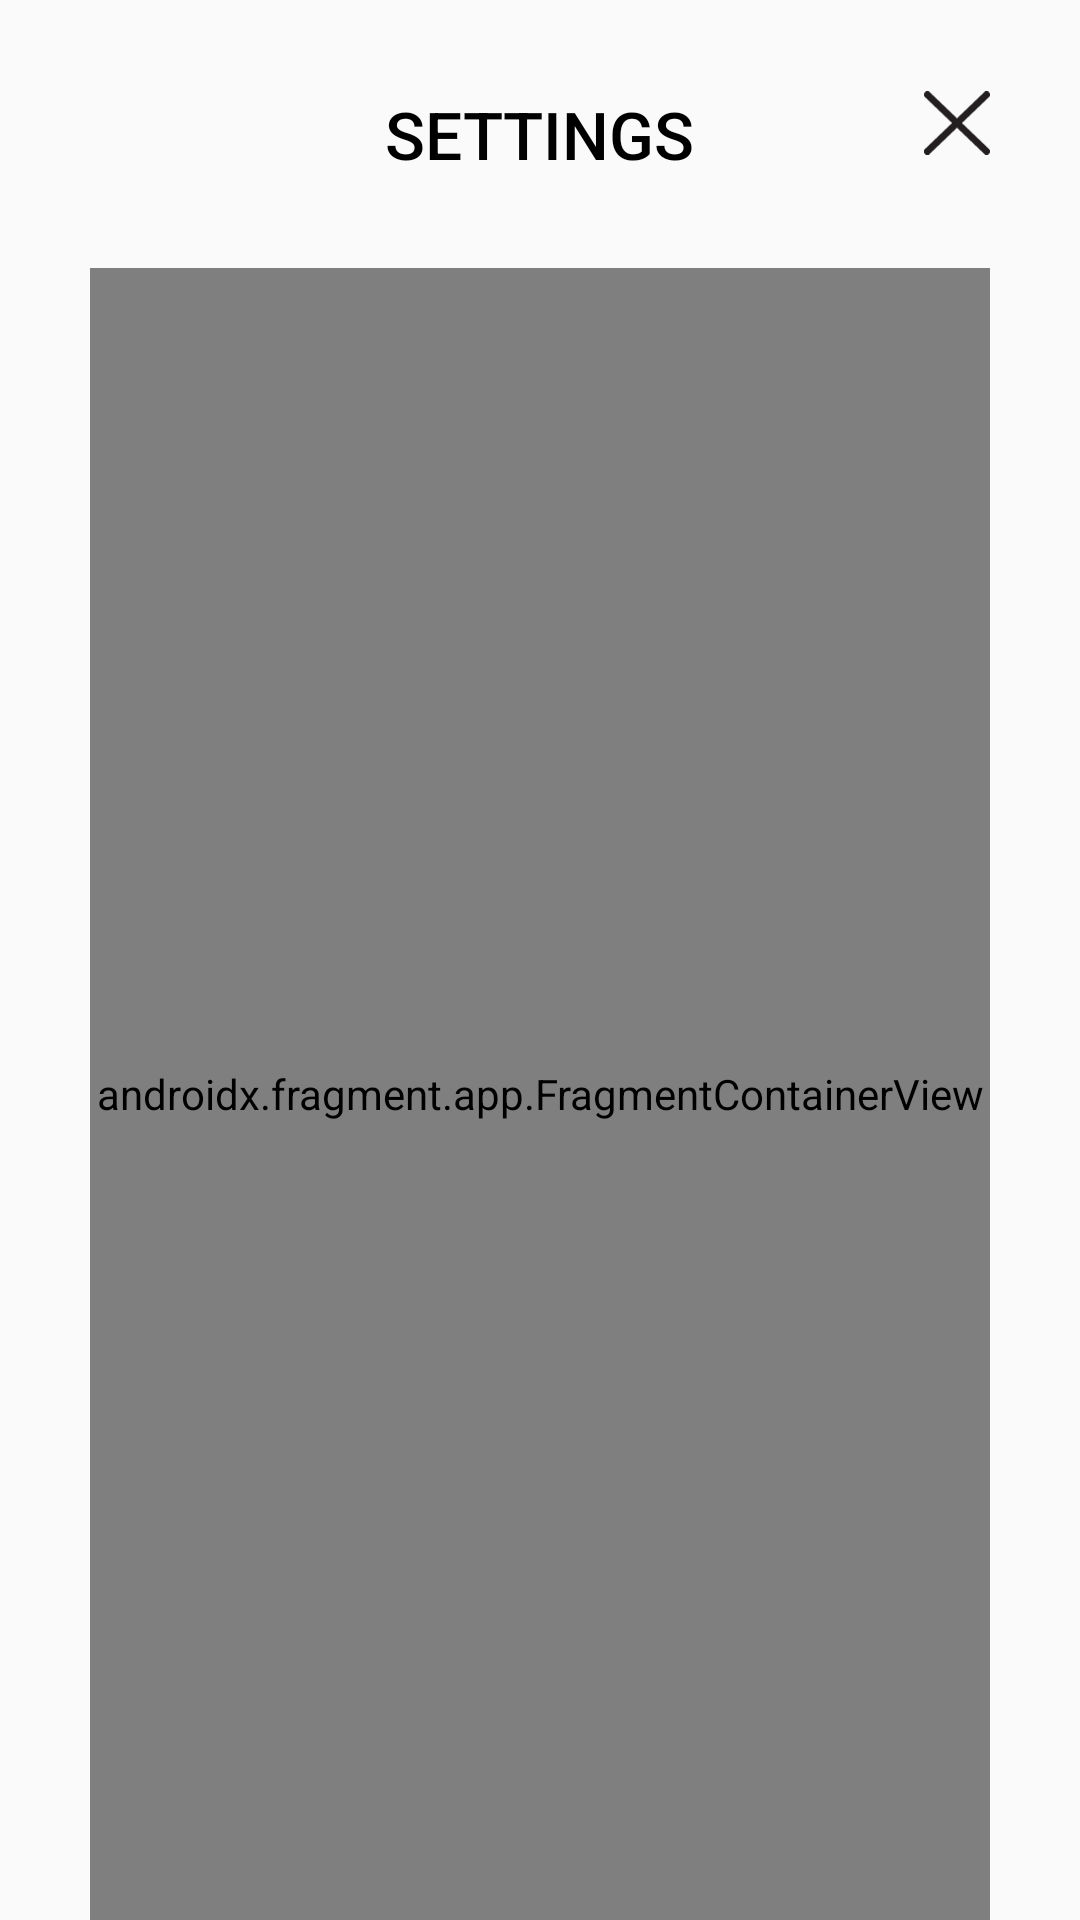

Icon click points for this 1080px x 1920px phone screenshot, format [x,y]:
close: [957,123]
